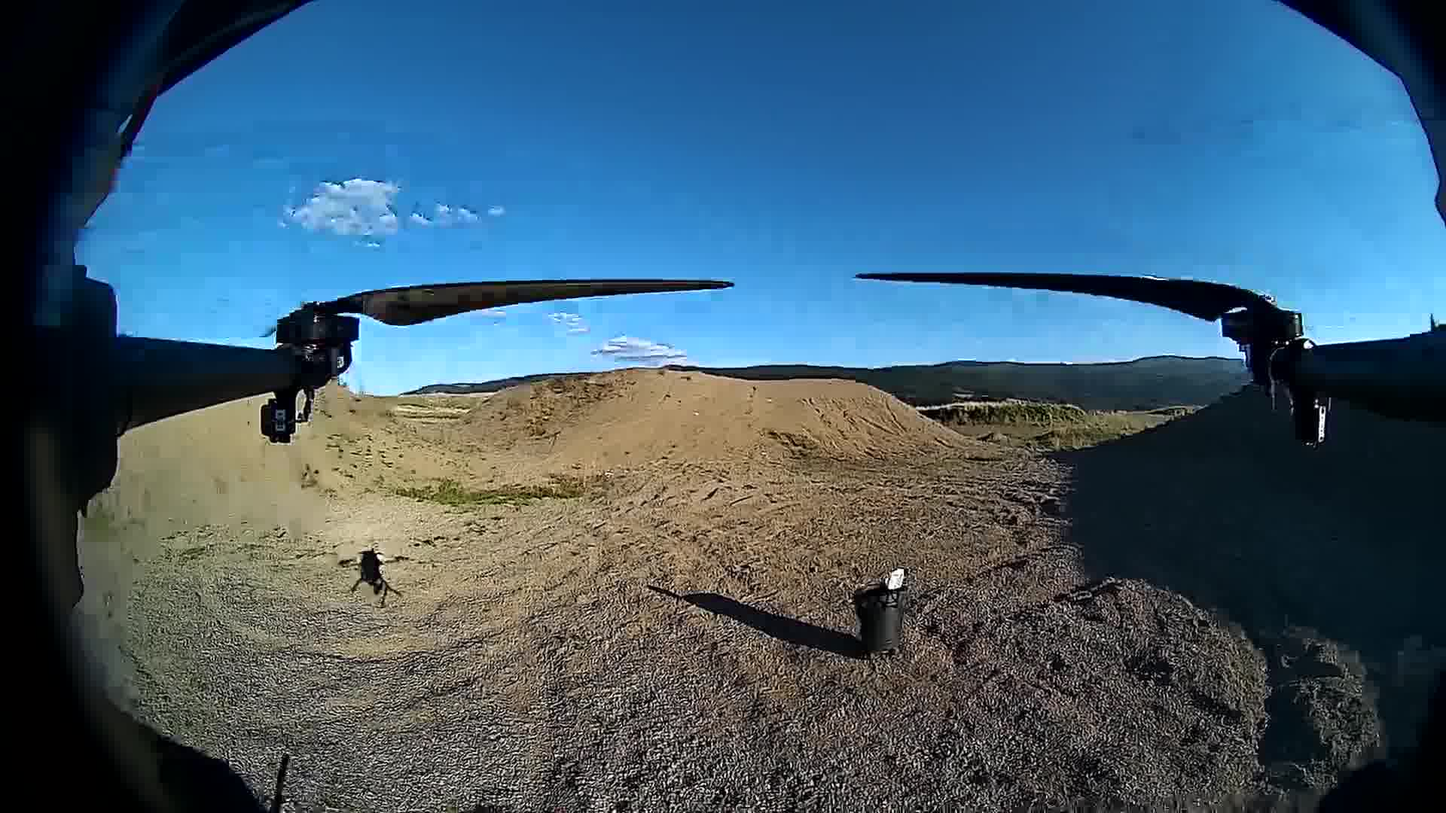Target: (886, 563, 913, 595)
